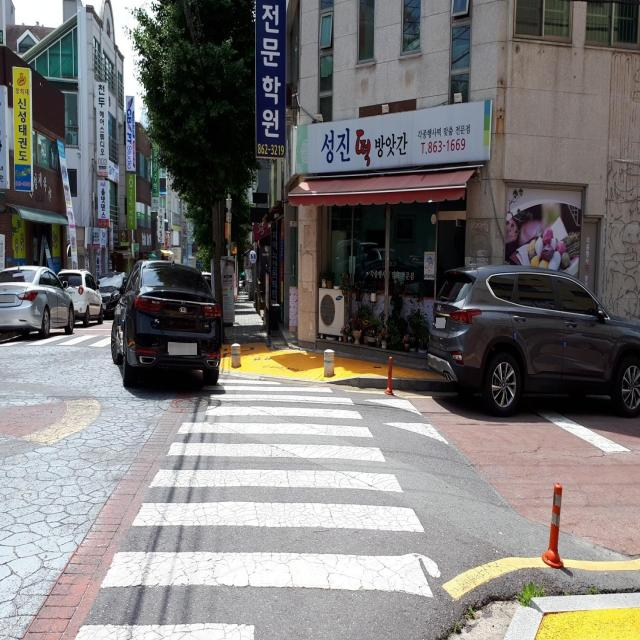횡단보도: (71, 373, 444, 640)
